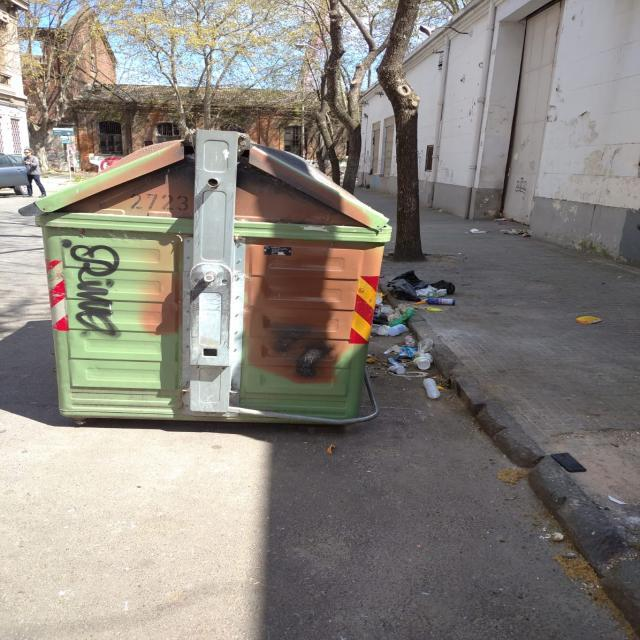garbage: (375, 264, 488, 420), (546, 300, 626, 342), (464, 214, 542, 244)
